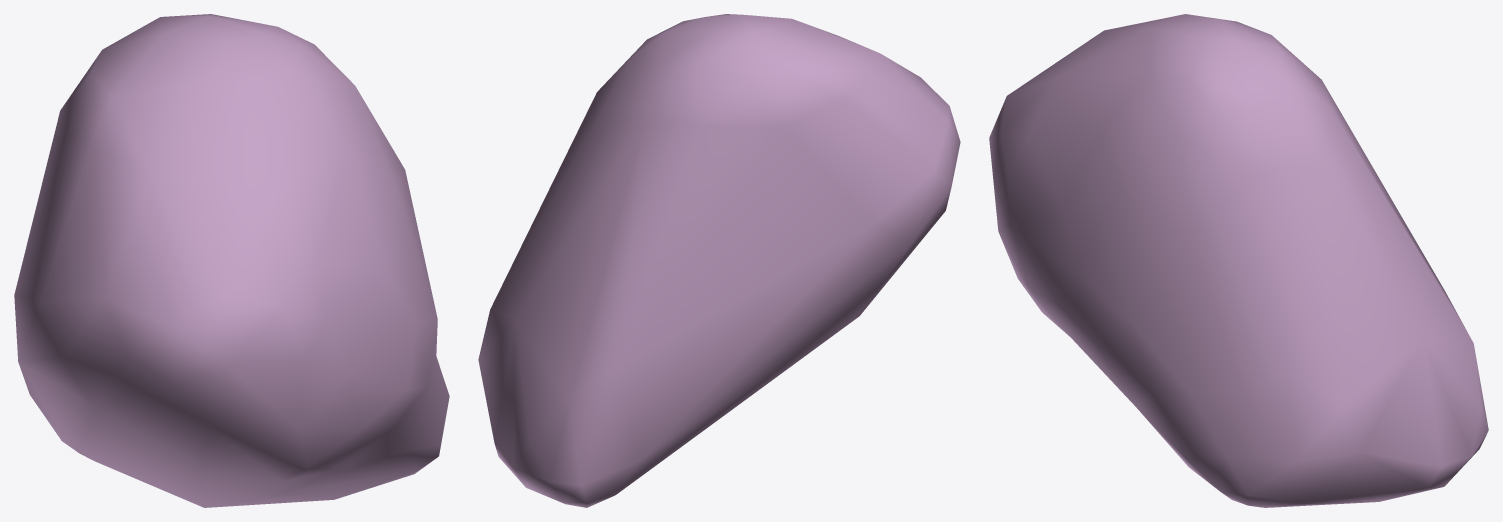
3 renders of one model, left to right at view 1: azimuth 30°, elevation 25°; view 2: azimuth 150°, elevation 25°; view 3: azimuth 270°, elevation 25°, orthographic. The views are drawn at different scales.
Parts seen in each view (by area): view 1: 左侧内侧膝状体; view 2: 左侧内侧膝状体; view 3: 左侧内侧膝状体.
Boxes of the visible parts, x1,y1,x2,y2 form: 左侧内侧膝状体: [14, 14, 449, 507]; 左侧内侧膝状体: [478, 14, 960, 507]; 左侧内侧膝状体: [989, 14, 1488, 507].
Size of the model in its own units: 0.00932 by 0.0101 by 0.011.
